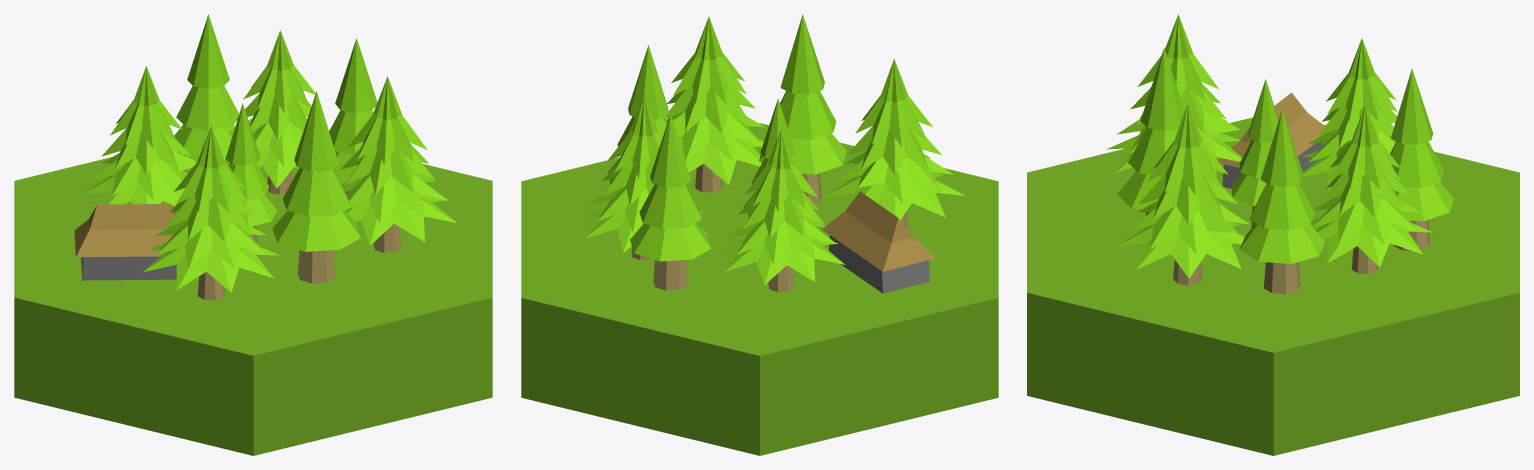
The model's file is Casas_Bosque_Pinos_1.fbx.
The picture shows the model from 3 angles, left to right: view 1: azimuth 30°, elevation 25°; view 2: azimuth 150°, elevation 25°; view 3: azimuth 270°, elevation 25°; orthographic projection. The views are drawn at different scales.
Parts seen in each view (by area): view 1: Casas_Bosque_Pinos_1; view 2: Casas_Bosque_Pinos_1; view 3: Casas_Bosque_Pinos_1.
Part boxes in pixels (x1,y1,x2,y2): Casas_Bosque_Pinos_1: [14, 14, 492, 455]; Casas_Bosque_Pinos_1: [521, 14, 998, 455]; Casas_Bosque_Pinos_1: [1027, 14, 1519, 455].
Size of the model in its own units: 200 by 114 by 173.
